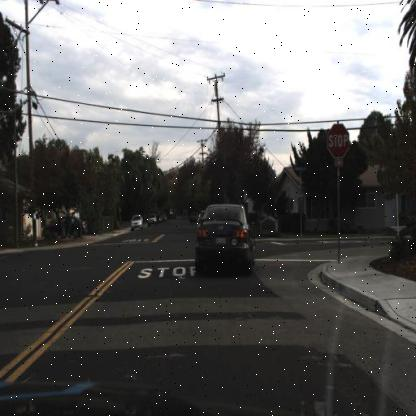car: (195, 201, 257, 274), (45, 214, 85, 238), (128, 212, 144, 232), (146, 209, 157, 228)
